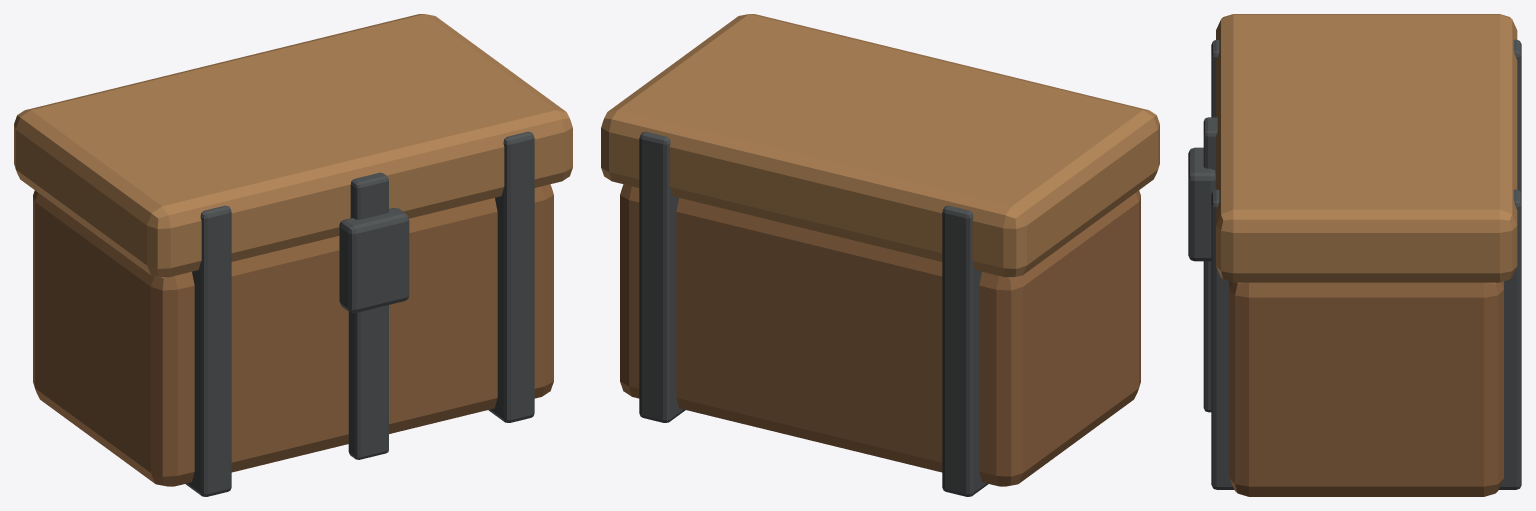
Rendered from storage_chest_1p1.glb.
The picture shows the model from 3 angles, left to right: view 1: azimuth 30°, elevation 25°; view 2: azimuth 150°, elevation 25°; view 3: azimuth 270°, elevation 25°; orthographic projection.
Parts seen in each view (by area): view 1: chest_lid, chest_body, chest_right_band, chest_left_band, chest_front_band, chest_latch; view 2: chest_body, chest_lid, chest_right_band, chest_left_band; view 3: chest_lid, chest_body, chest_right_band, chest_latch, chest_front_band, chest_left_band.
Boxes of the visible parts, box(x1,y1,x2,y2) form: chest_lid: box(14, 14, 572, 277); chest_body: box(33, 184, 553, 486); chest_right_band: box(488, 131, 534, 422); chest_left_band: box(185, 205, 231, 496); chest_front_band: box(348, 172, 388, 459); chest_latch: box(339, 208, 409, 312); chest_body: box(620, 184, 1140, 486); chest_lid: box(601, 14, 1159, 277); chest_right_band: box(639, 131, 685, 422); chest_left_band: box(942, 205, 988, 496); chest_lid: box(1216, 14, 1517, 282); chest_body: box(1229, 281, 1503, 496); chest_right_band: box(1211, 189, 1521, 489); chest_latch: box(1188, 147, 1215, 261); chest_front_band: box(1203, 117, 1217, 412); chest_left_band: box(1211, 39, 1521, 193).
Bounding box in the file's own units: 1.12 × 0.74 × 0.7525.
